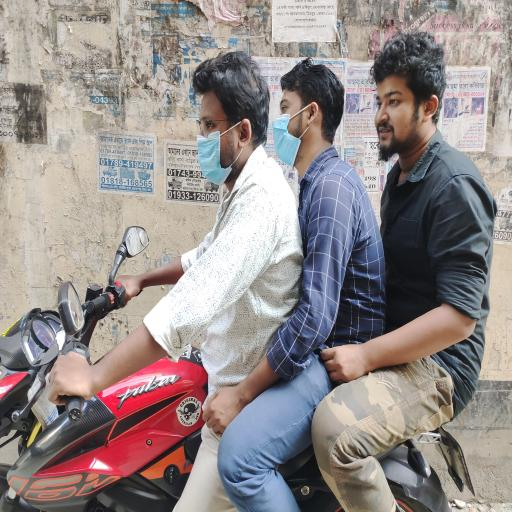overloading: (38, 28, 498, 508)
